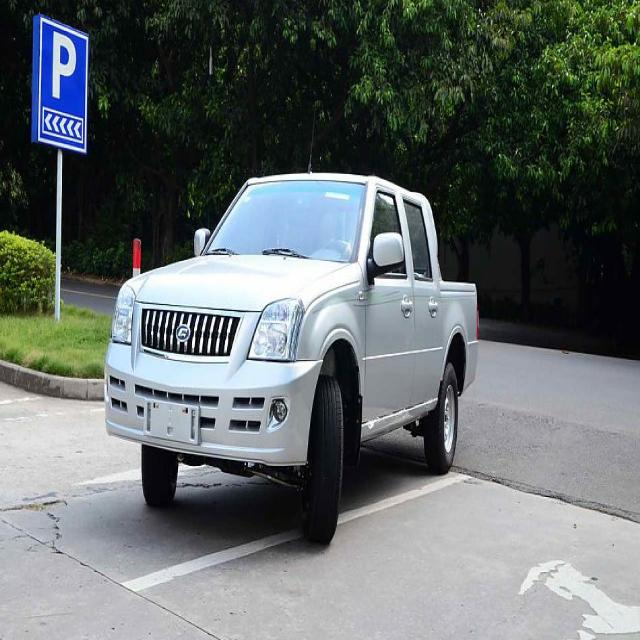back_left_side_light: (474, 291, 481, 341)
door: (402, 193, 449, 404)
front_bumper: (103, 336, 324, 470)
front_glass: (204, 179, 367, 261)
front_left_side_door: (359, 179, 417, 430)
front_left_side_mirror: (366, 231, 405, 284)
front_right_side_light: (109, 278, 138, 348)
front_right_side_mirror: (191, 228, 212, 258)
wheel: (302, 379, 343, 539), (422, 360, 459, 475), (140, 440, 181, 510)
